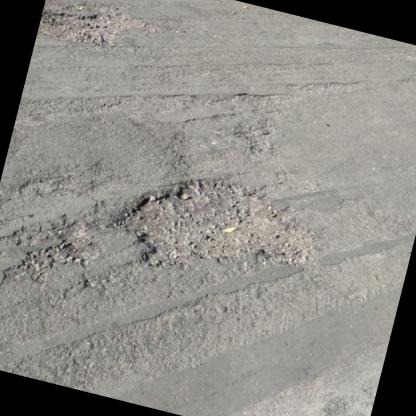pothole: (102, 148, 336, 310), (37, 0, 165, 64), (43, 212, 113, 270), (228, 118, 282, 158)
